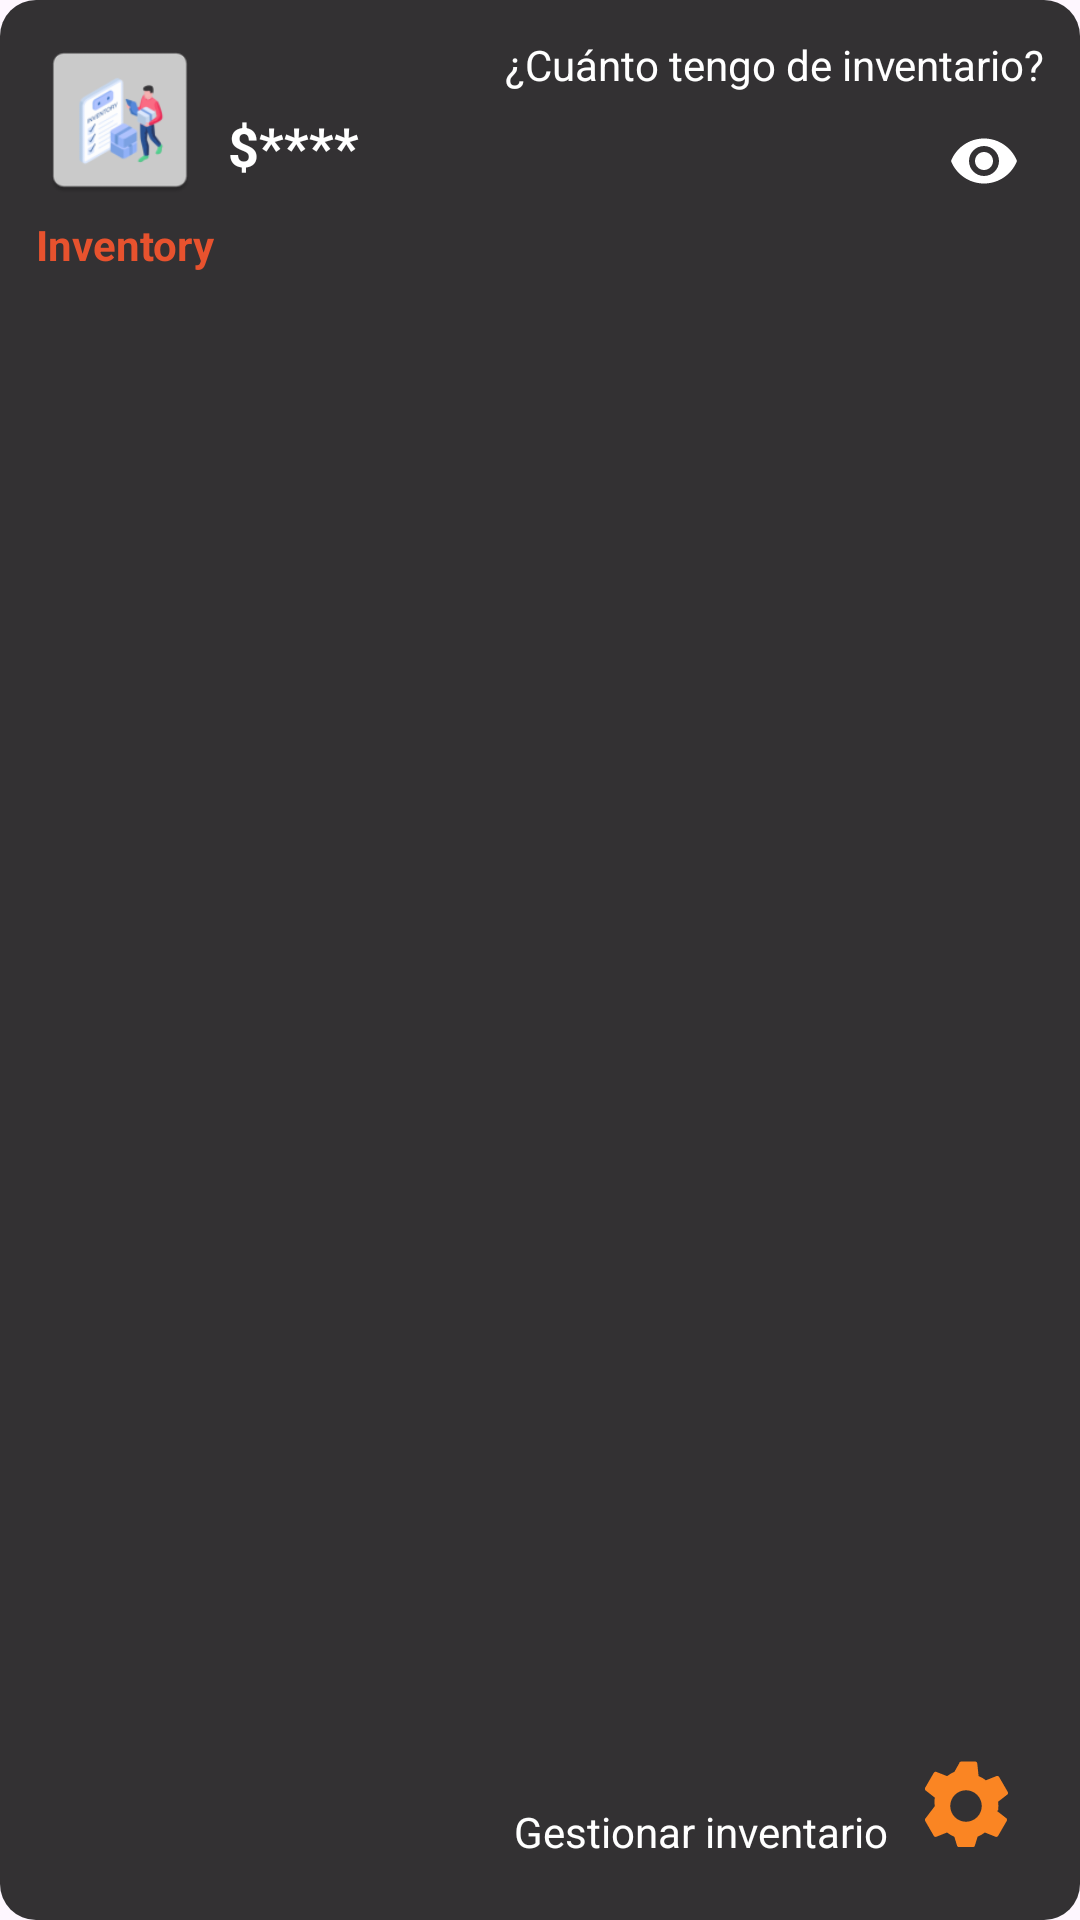

Icon bounding boxes for this 1080 x 1920 phone screenshot, format Rect(x1, y1, x2, y2):
Mostrar/Ocultar saldo: Rect(951, 138, 1017, 184)
